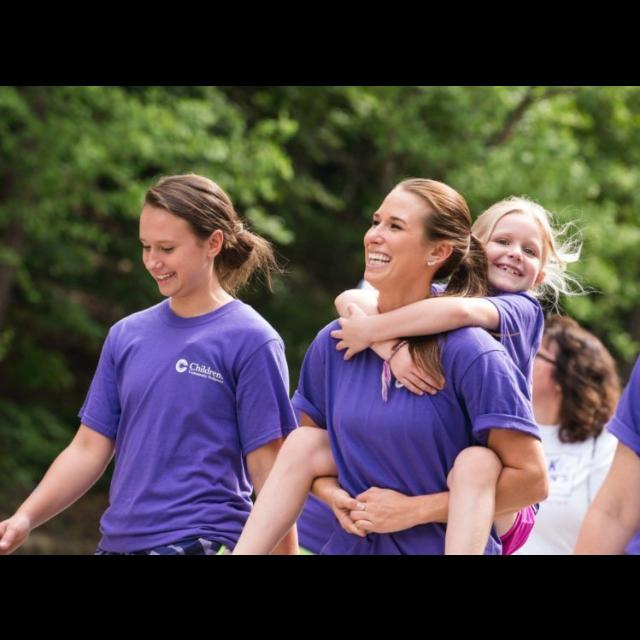head: (360, 176, 478, 294), (139, 172, 231, 298), (471, 196, 552, 294)
person: (0, 85, 2, 86)
